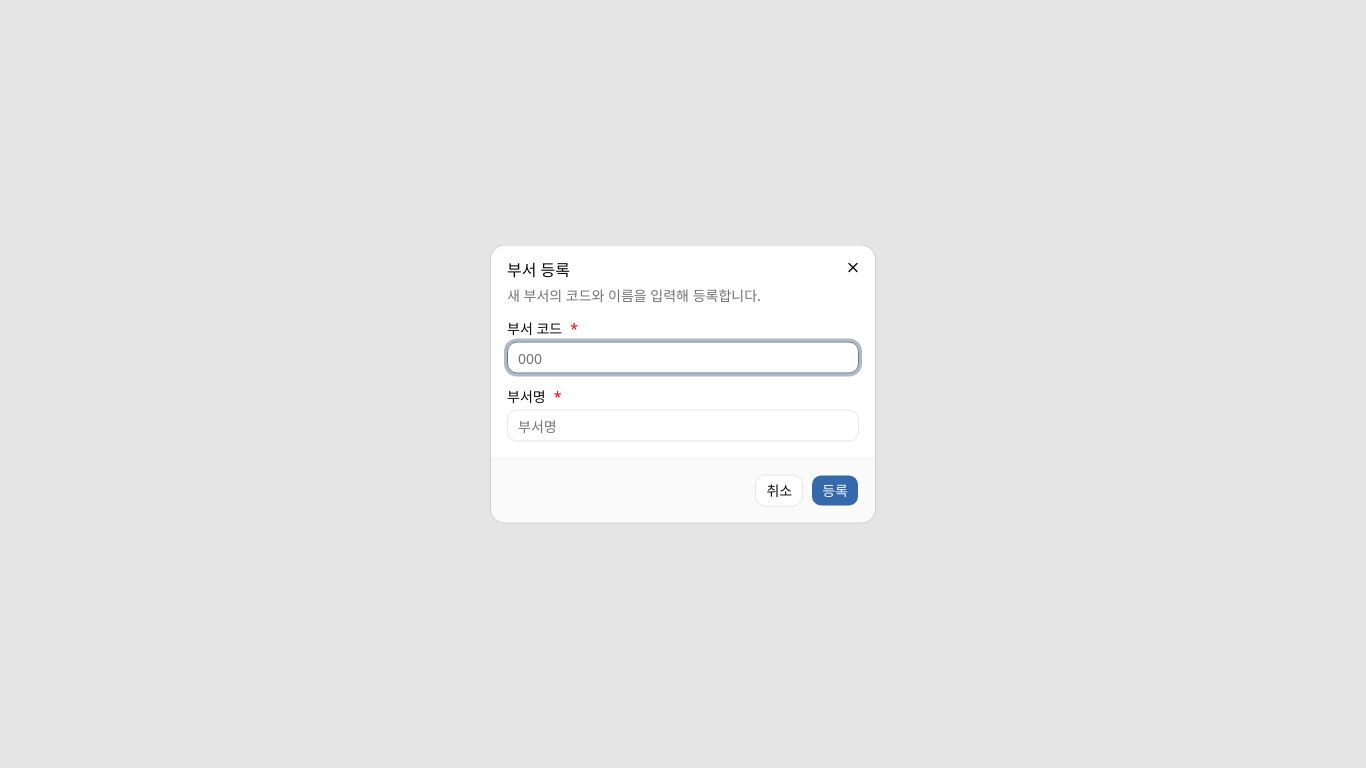
Test case: RegisterDepartmentDialog › 빈 값 제출 시 zod 클라 사전검증 메시지를 노출하고 요청을 보내지 않는다
This screenshot has width=1366, height=768.
Click the button "등록": (835, 490) [811, 474, 859, 506]
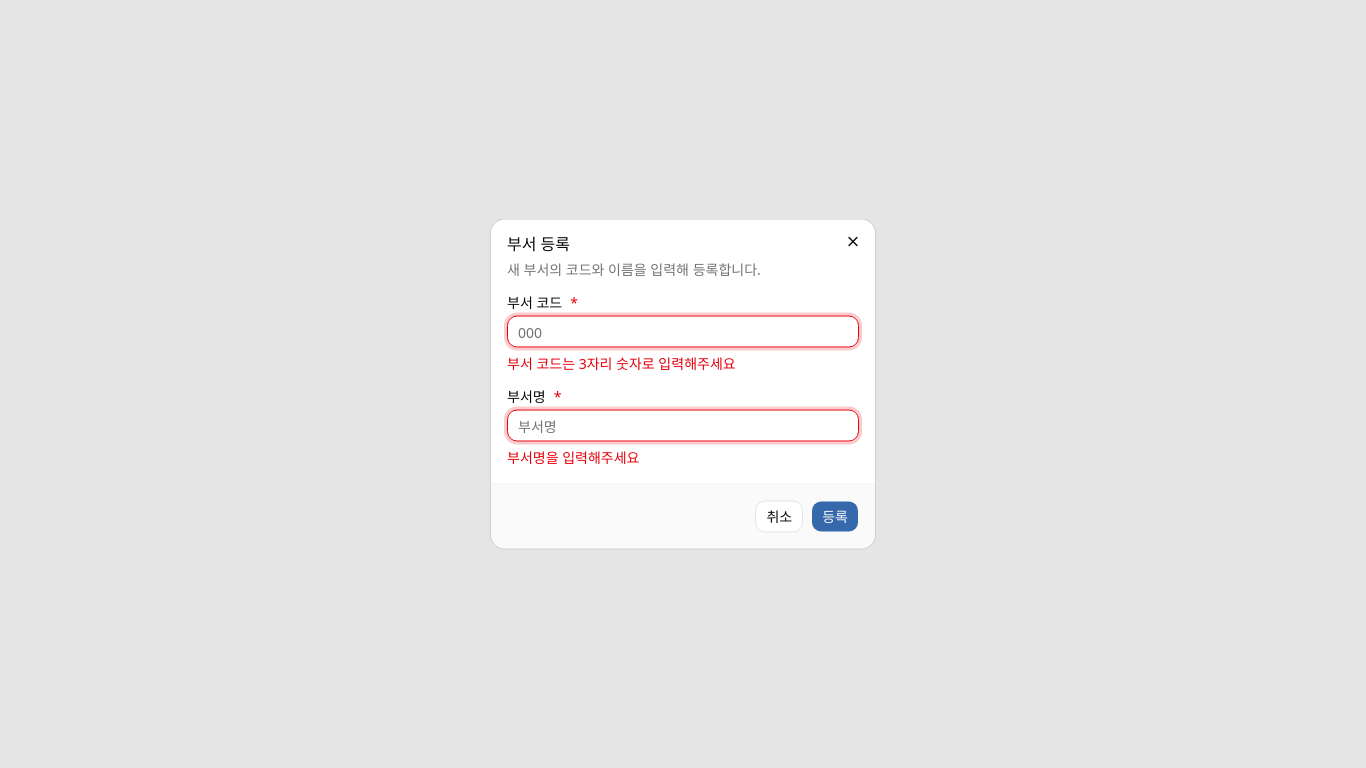
Now the text "부서 코드는 3자리 숫자로 입력해주세요" is shown, box [507, 354, 736, 372]
Now the text "부서명을 입력해주세요" is shown, box [507, 448, 640, 466]
